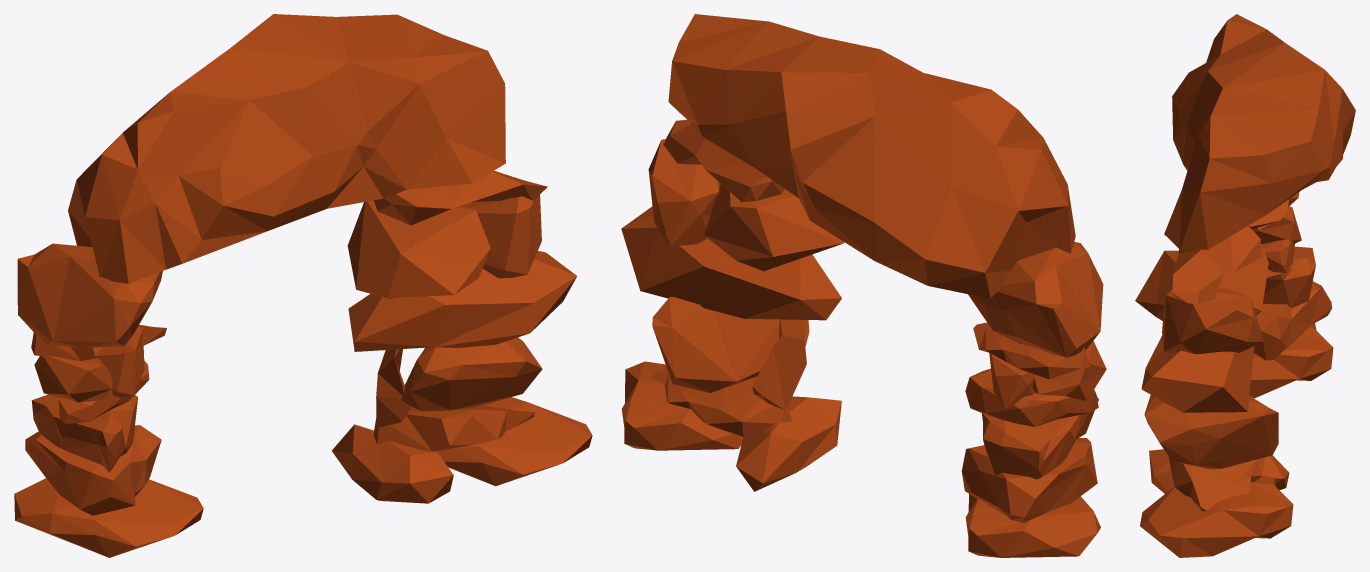
Rendered from RealFinalUntitled.glb.
3 views of the same model, side by side, from view 1: azimuth 30°, elevation 25°; view 2: azimuth 150°, elevation 25°; view 3: azimuth 270°, elevation 25° (orthographic). The views are drawn at different scales.
Parts seen in each view (by area): view 1: Stone_desert_big_001; view 2: Stone_desert_big_001; view 3: Stone_desert_big_001.
Boxes of the visible parts, x1,y1,x2,y2 form: Stone_desert_big_001: (14, 14, 592, 557); Stone_desert_big_001: (621, 14, 1106, 557); Stone_desert_big_001: (1135, 14, 1355, 557).
Bounding box in the file's own units: 15.71 × 13.04 × 6.49.
Materials: 1 (1 with a texture image).
